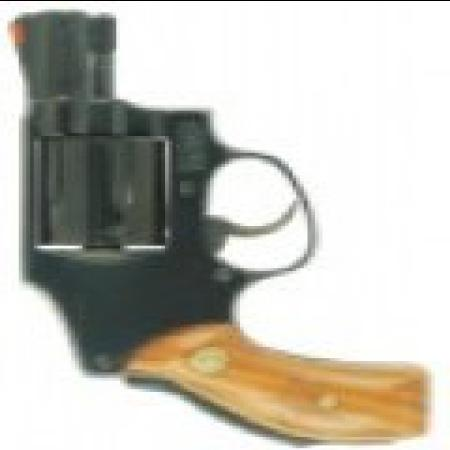Pistol: (7, 14, 423, 447)
